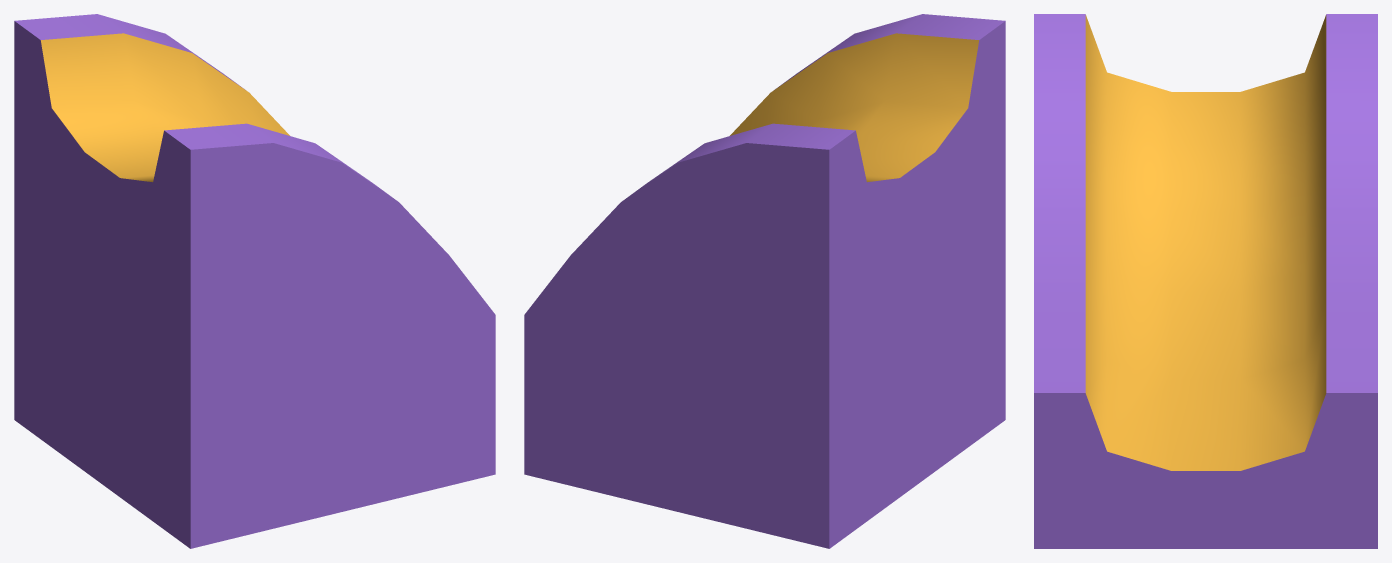
File: ramp-end-solid-d-col.glb
3 views of the same model, side by side, from view 1: azimuth 30°, elevation 25°; view 2: azimuth 150°, elevation 25°; view 3: azimuth 270°, elevation 25° (orthographic). The views are drawn at different scales.
Visible parts, largest first — view 1: ramp-end-solid-d-col; view 2: ramp-end-solid-d-col; view 3: ramp-end-solid-d-col.
Part boxes in pixels (x1,y1,x2,y2): ramp-end-solid-d-col: (14,14,495,548); ramp-end-solid-d-col: (524,14,1005,548); ramp-end-solid-d-col: (1034,14,1377,548).
Bounding box in the file's own units: 1 × 1.25 × 1.
Materials: 1 (1 with a texture image).
